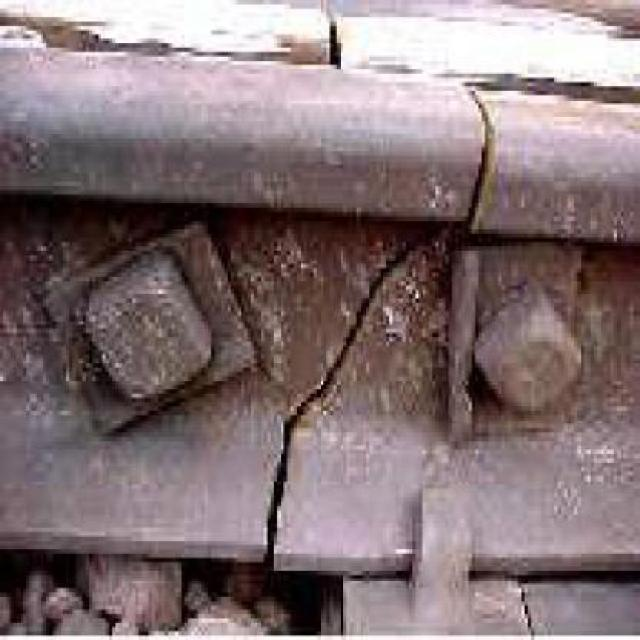defective: (119, 0, 622, 606)
